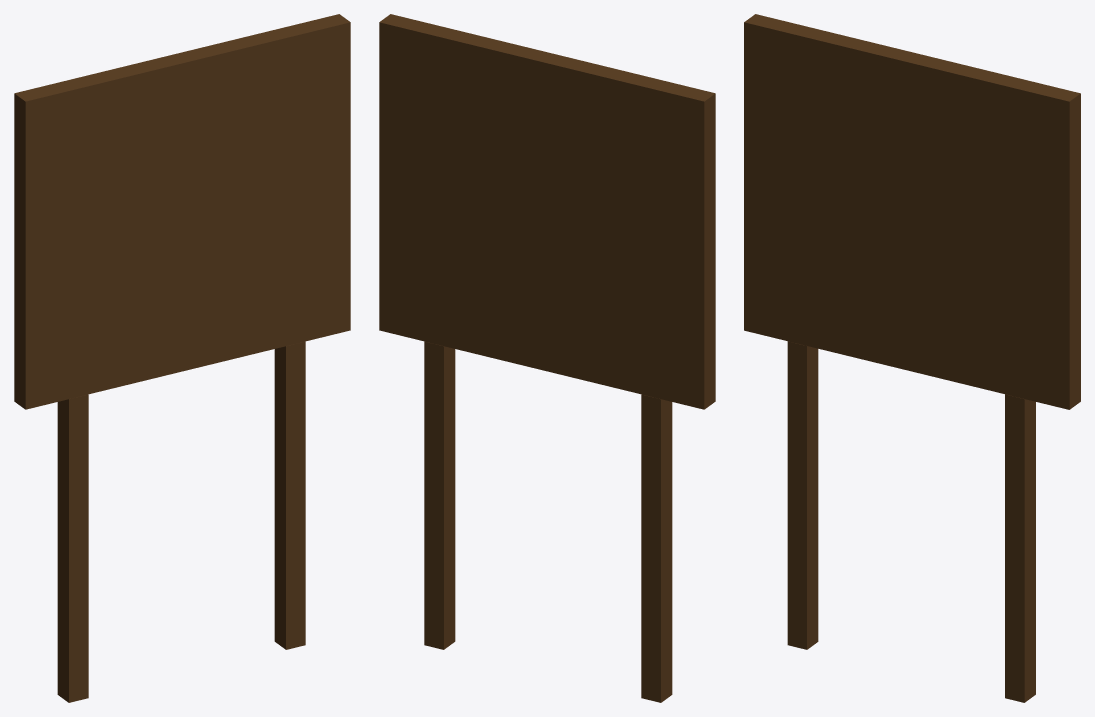
File: Sign.fbx
The picture shows the model from 3 angles, left to right: view 1: azimuth 30°, elevation 25°; view 2: azimuth 150°, elevation 25°; view 3: azimuth 330°, elevation 25°; orthographic projection.
Parts seen in each view (by area): view 1: Sign; view 2: Sign; view 3: Sign.
Part boxes in pixels (<box>): Sign: <box>14,14,350,702</box>; Sign: <box>379,14,715,702</box>; Sign: <box>744,14,1080,702</box>.
Size of the model in its own units: 3.31 by 5.96 by 0.2.
1 material, 1 textured.
